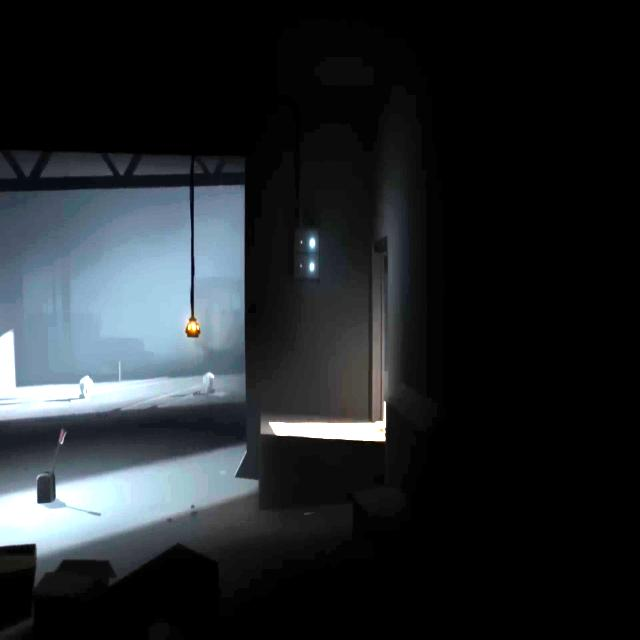interactible: (36, 428, 67, 504), (185, 321, 201, 337)
zombie: (79, 375, 93, 400), (203, 372, 215, 394)
